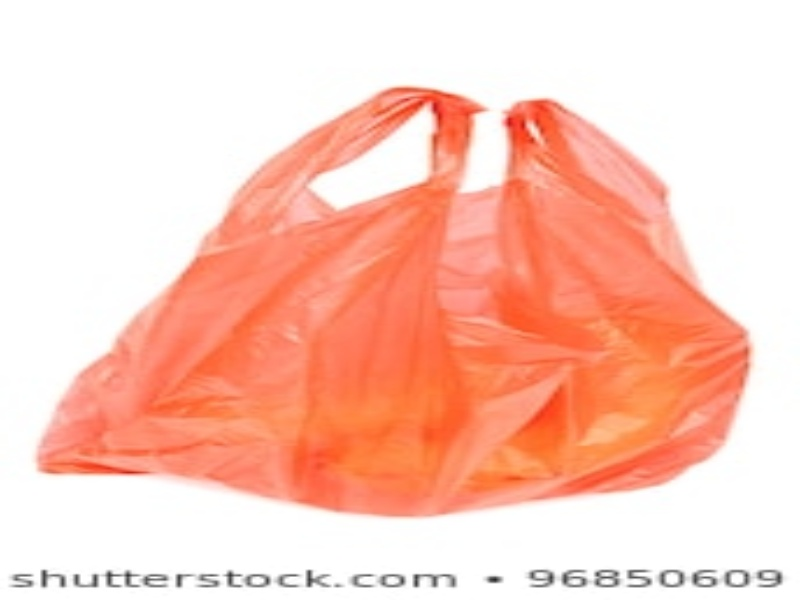plastic-bag: (36, 88, 752, 522)
